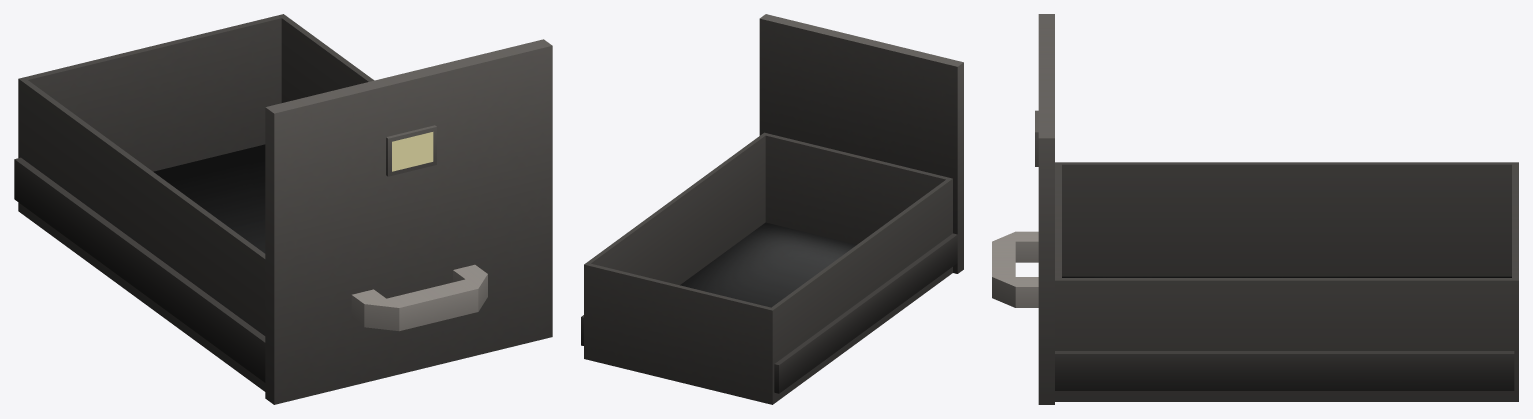
File: FilingCabinet_Drawer.fbx
3 renders of one model, left to right at view 1: azimuth 30°, elevation 25°; view 2: azimuth 150°, elevation 25°; view 3: azimuth 270°, elevation 25°, orthographic. The views are drawn at different scales.
Visible parts, largest first — view 1: FilingCabinet_Drawer; view 2: FilingCabinet_Drawer; view 3: FilingCabinet_Drawer.
Part boxes in pixels (left/top/right/bottom): FilingCabinet_Drawer: left=14, top=14, right=552, bottom=404; FilingCabinet_Drawer: left=581, top=14, right=963, bottom=404; FilingCabinet_Drawer: left=992, top=14, right=1518, bottom=404.
Bounding box in the file's own units: 33.38 × 33.38 × 59.78.
